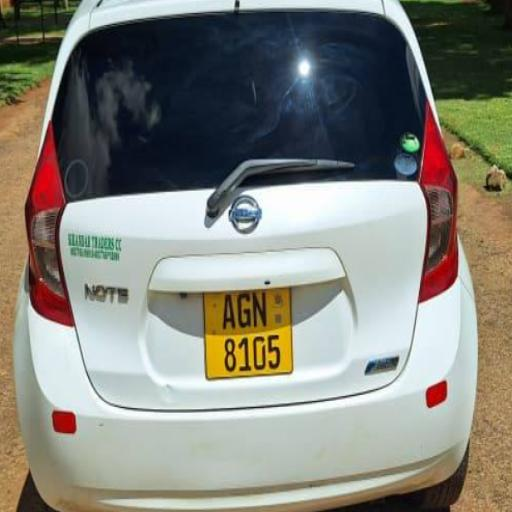number-plates: (203, 288, 290, 374)
